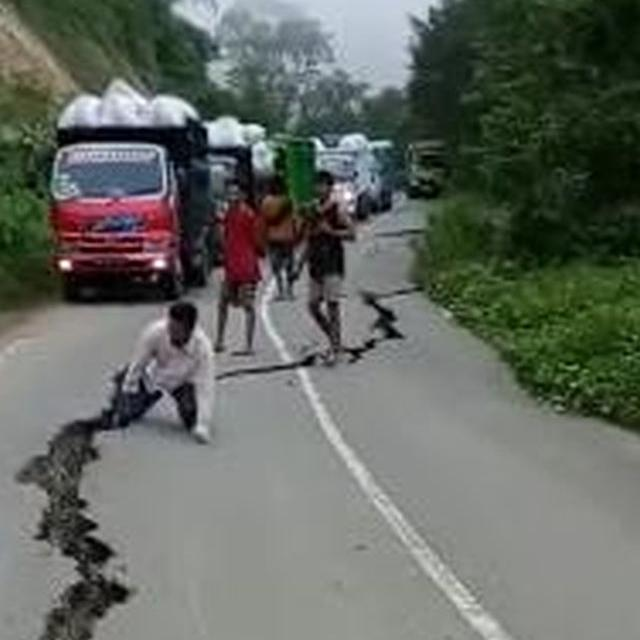retak_memanjang: (0, 389, 130, 640), (225, 282, 419, 386)
